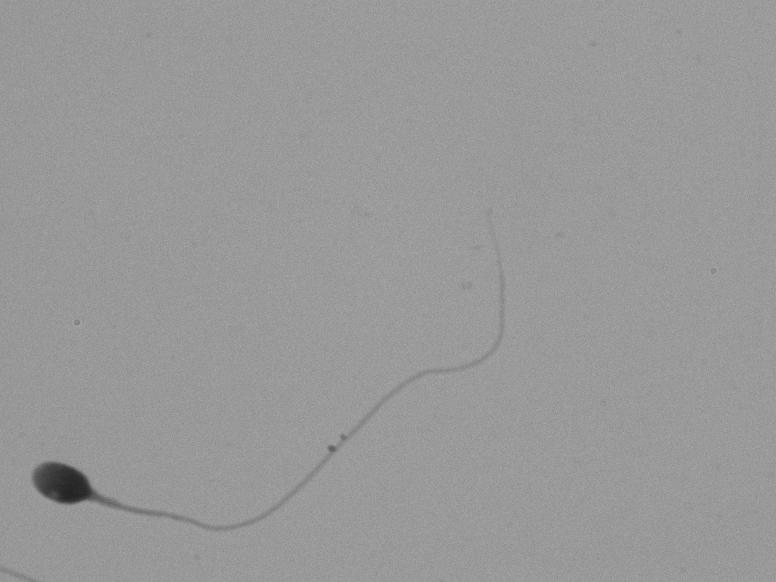Normal: (25, 215, 526, 549)
